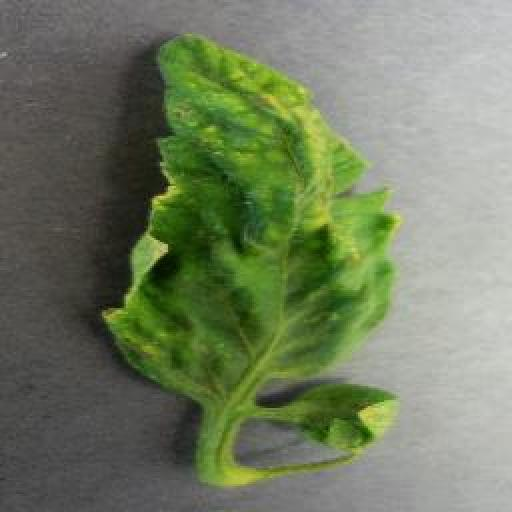disease_tomato: (99, 34, 391, 388)
